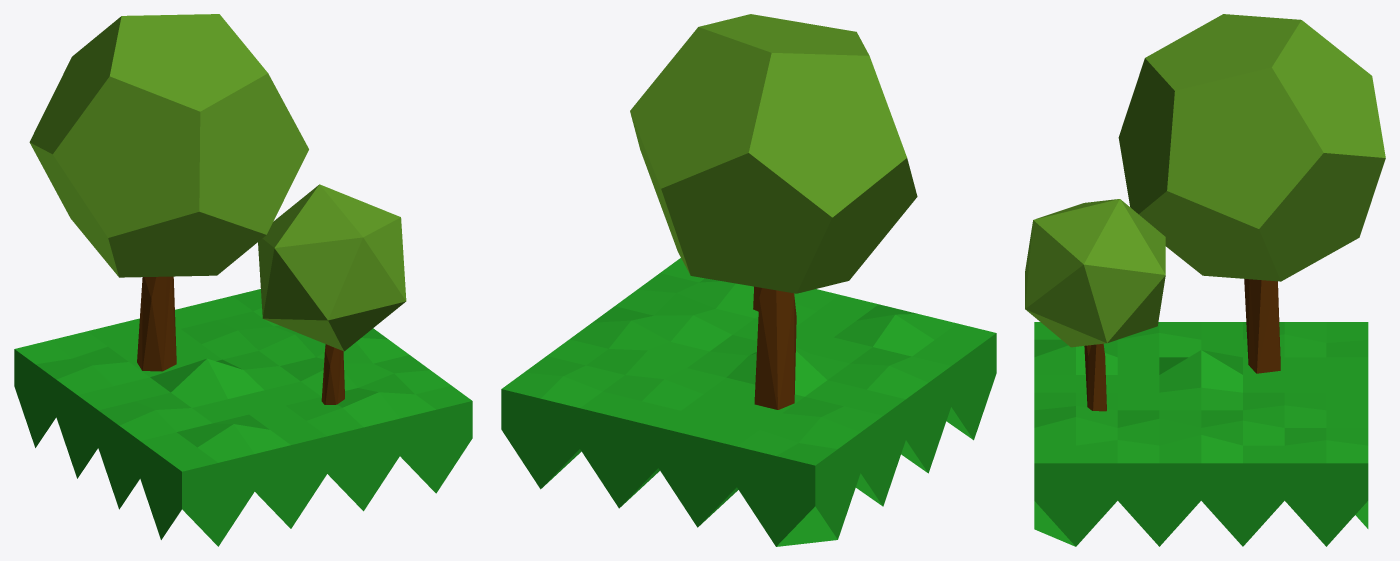
Rendered from tree.fbx.
The picture shows the model from 3 angles, left to right: view 1: azimuth 30°, elevation 25°; view 2: azimuth 150°, elevation 25°; view 3: azimuth 270°, elevation 25°; orthographic projection. The views are drawn at different scales.
Parts seen in each view (by area): view 1: 空白, 立方体_4; view 2: 立方体_4, 空白; view 3: 空白, 立方体_4.
Part boxes in pixels (left/top/right/bottom): 空白: left=29, top=14, right=406, bottom=404; 立方体_4: left=14, top=289, right=472, bottom=546; 立方体_4: left=501, top=258, right=996, bottom=546; 空白: left=630, top=14, right=917, bottom=409; 空白: left=1025, top=14, right=1385, bottom=411; 立方体_4: left=1034, top=322, right=1368, bottom=546.
Bounding box in the file's own units: 111 × 143 × 111.
